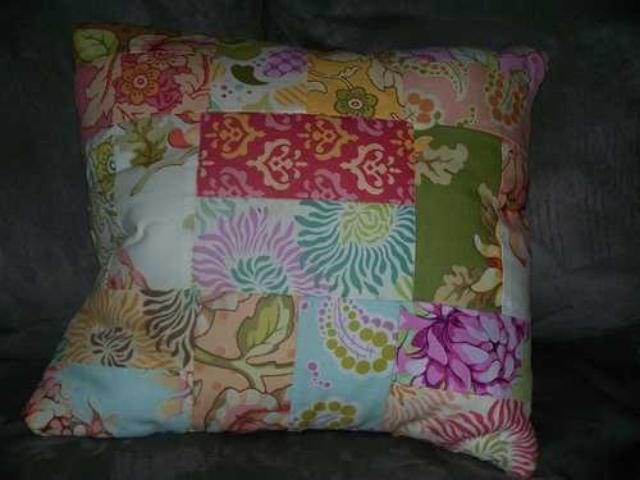pillow: (21, 20, 549, 479)
